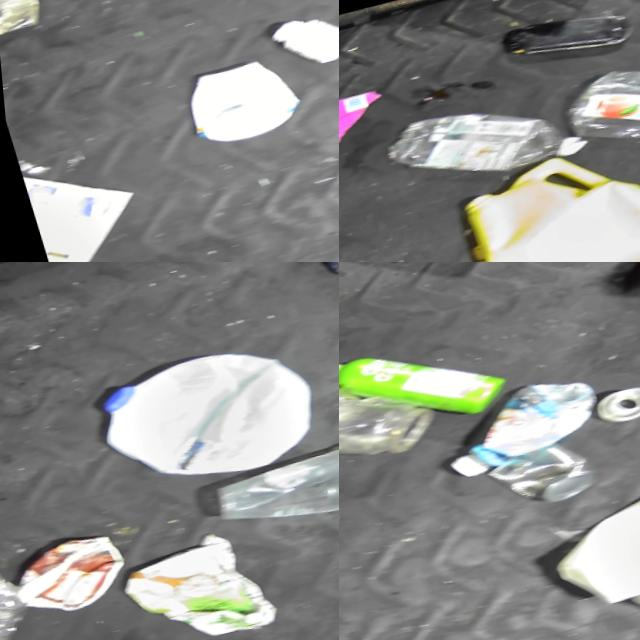can: (479, 438, 599, 519), (0, 0, 8, 33)
milk_jug: (83, 336, 331, 504), (446, 130, 640, 262), (169, 54, 300, 152), (610, 532, 640, 634)
non_white_jug: (339, 314, 505, 447)
plastic_bottle: (372, 83, 590, 201)
